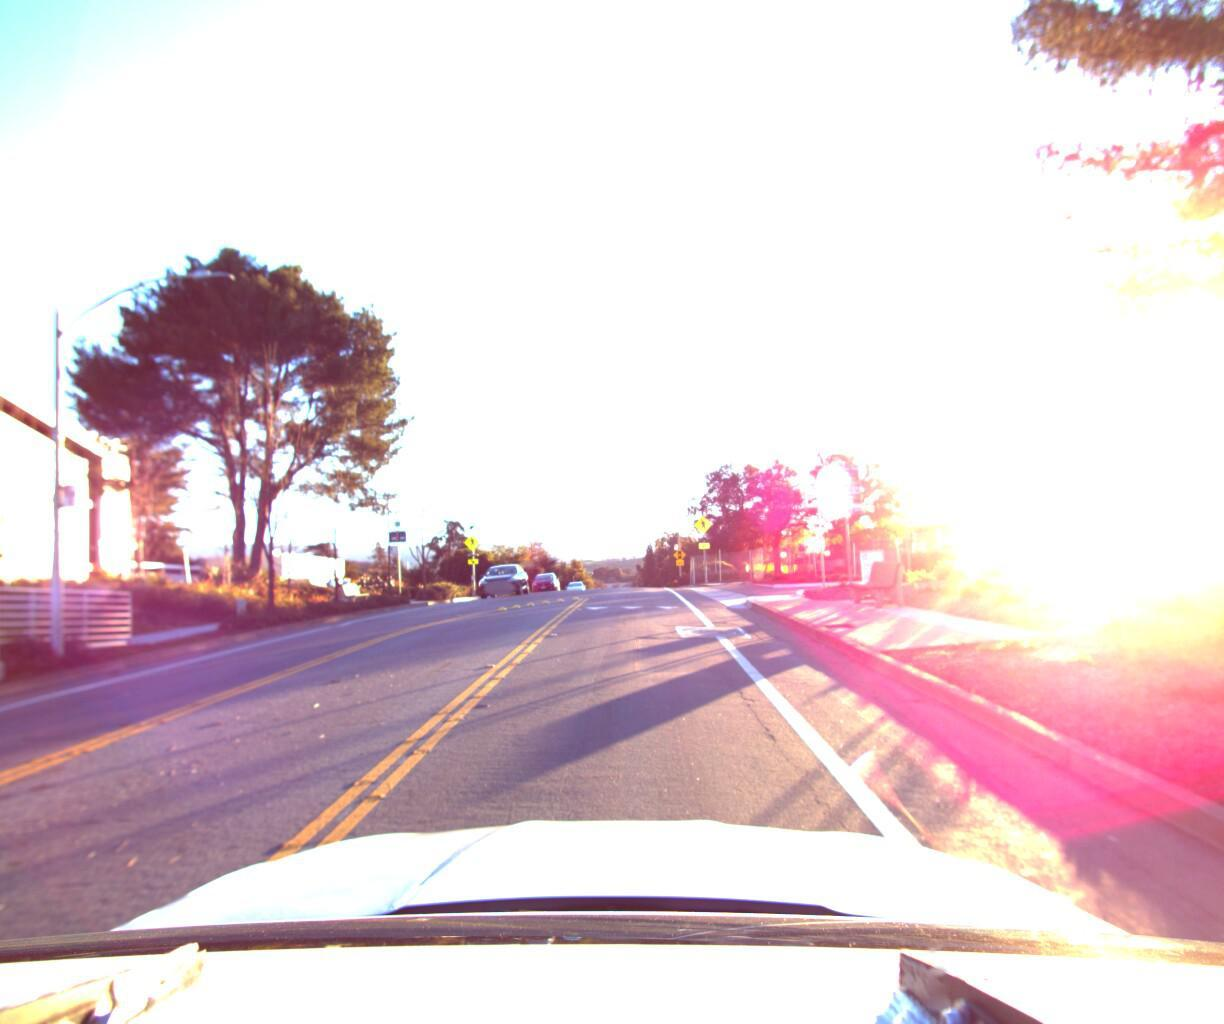car: (474, 561, 532, 598), (528, 568, 561, 593), (564, 577, 586, 594)
